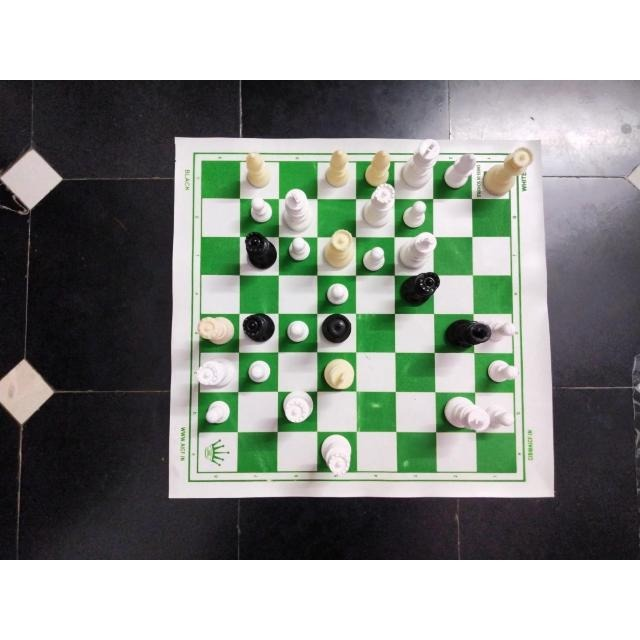black-king: (448, 315, 490, 351)
black-queen: (396, 270, 444, 310), (239, 232, 280, 268), (318, 311, 355, 346), (239, 314, 277, 342)
white-bishop: (445, 151, 479, 189), (362, 149, 394, 187), (322, 148, 349, 193), (245, 148, 273, 189)
white-king: (440, 395, 492, 435), (405, 137, 441, 190), (280, 186, 316, 232), (395, 232, 439, 268), (324, 357, 358, 390)
white-pawn: (482, 405, 521, 437), (483, 359, 521, 390), (202, 395, 234, 427), (244, 353, 274, 387), (490, 313, 517, 349), (400, 200, 432, 228), (280, 318, 314, 344), (286, 238, 315, 268), (324, 280, 357, 306), (362, 244, 390, 272), (246, 198, 274, 222)
white-queen: (481, 142, 533, 197), (320, 434, 360, 474), (194, 354, 234, 391), (361, 183, 393, 227), (278, 389, 317, 425), (194, 311, 234, 345), (324, 228, 354, 272)
